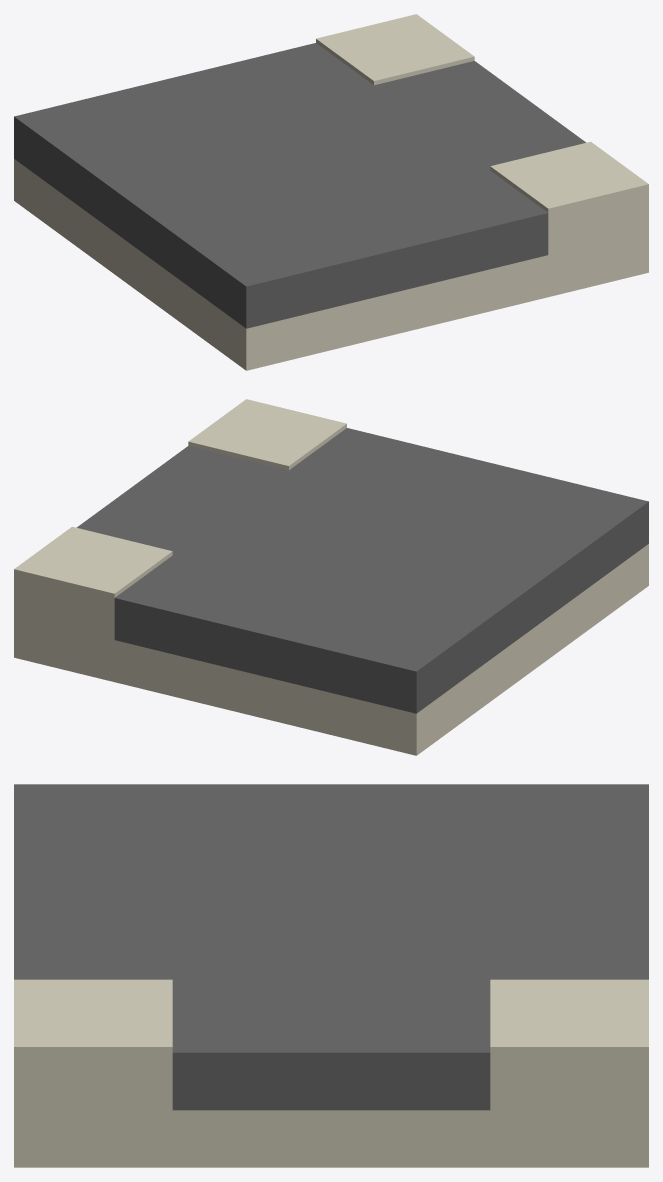
File: roadTile_060.fbx
3 renders of one model, top to bottom at view 1: azimuth 30°, elevation 25°; view 2: azimuth 150°, elevation 25°; view 3: azimuth 270°, elevation 25°, orthographic. The views are drawn at different scales.
Parts seen in each view (by area): view 1: roadTile_060; view 2: roadTile_060; view 3: roadTile_060.
Boxes of the visible parts, x1=… form: roadTile_060: x1=14, y1=14, x2=648, y2=370; roadTile_060: x1=14, y1=399, x2=648, y2=755; roadTile_060: x1=14, y1=784, x2=648, y2=1167.
Bounding box in the file's own units: 118 × 24.8 × 118.
